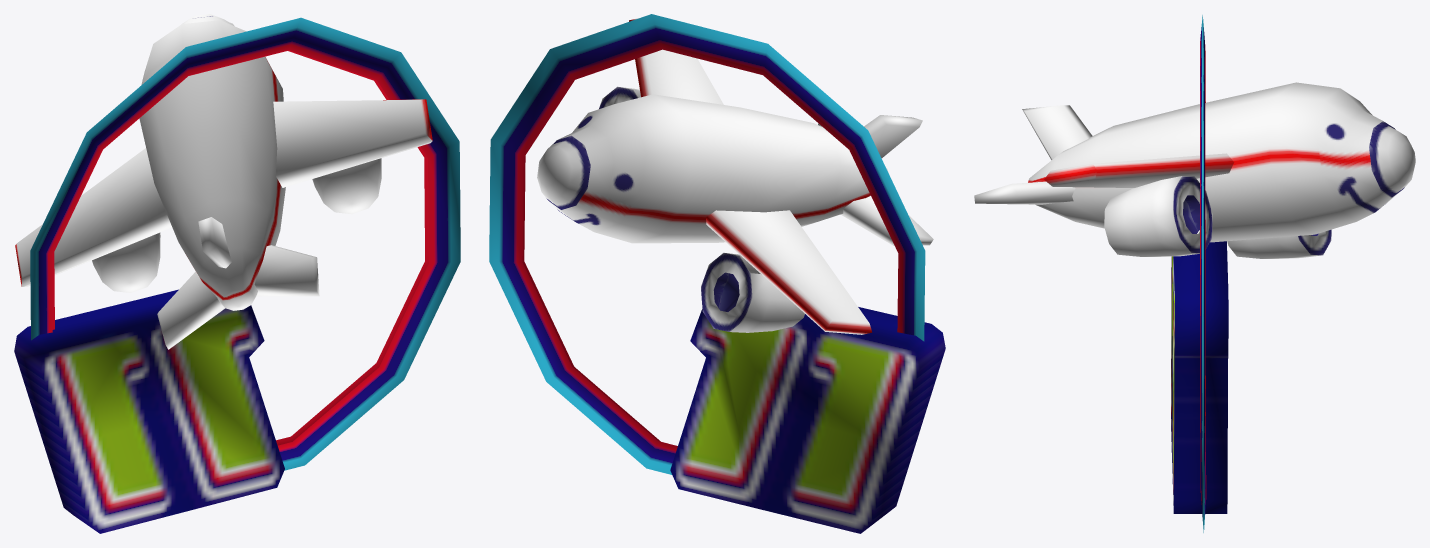
Rendered from popn11.ico.obj.
3 views of the same model, side by side, from view 1: azimuth 30°, elevation 25°; view 2: azimuth 150°, elevation 25°; view 3: azimuth 270°, elevation 25° (orthographic). The views are drawn at different scales.
Bounding box in the file's own units: 4.38 × 4.34 × 3.74.
1 material, 1 textured.
